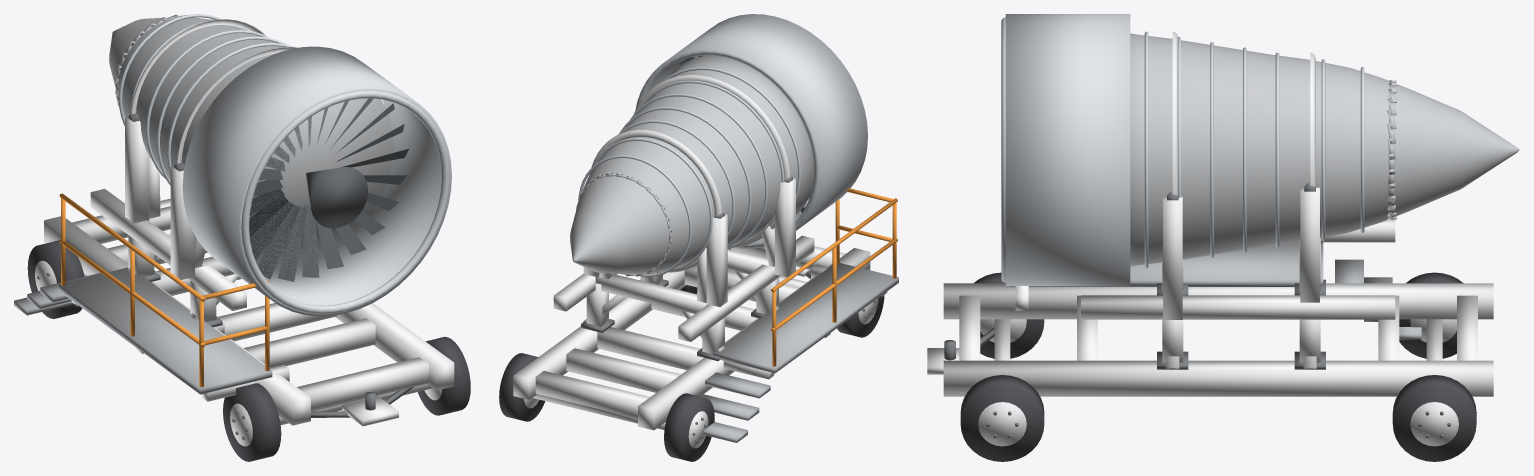
The model's file is AviationEngine.fbx.
3 views of the same model, side by side, from view 1: azimuth 30°, elevation 25°; view 2: azimuth 150°, elevation 25°; view 3: azimuth 270°, elevation 25° (orthographic). The views are drawn at different scales.
Visible parts, largest first — view 1: Engine_Nacelle_Cowl, Engine_Core_SolidHull, Catwalk_Deck_Plate, Engine_Intake_Lip, Chassis_Longitudinal_-0.7, Chassis_Crossmember_-1.8, Subframe_Longitudinal_-0.7, Chassis_Crossmember_-0.9, Chassis_Longitudinal_0.7, Engine_Spinner, Tire_Front_L, Cradle_Rear_Upright_L (+27 smaller); view 2: Engine_Core_SolidHull, Engine_Nacelle_Cowl, Catwalk_Deck_Plate, Chassis_Longitudinal_0.7, Chassis_Longitudinal_-0.7, Chassis_Crossmember_2.0, Subframe_Longitudinal_-0.7, Chassis_Crossmember_1.4, Chassis_Crossmember_0.8, Tire_Rear_L, Subframe_Crossbeam_0.8, Cradle_Front_Upright_L (+29 smaller); view 3: Engine_Core_SolidHull, Engine_Nacelle_Cowl, Chassis_Longitudinal_0.7, Chassis_Longitudinal_-0.7, Subframe_Longitudinal_0.7, Catwalk_Deck_Plate, Tire_Front_R, Tire_Rear_R, Cradle_Front_Upright_R, Cradle_Rear_Upright_R, Rim_Rear_R, Rim_Front_R (+21 smaller).
Boxes of the visible parts, <box> form: Engine_Nacelle_Cowl: <box>182,46,451,316</box>; Engine_Core_SolidHull: <box>109,17,393,269</box>; Catwalk_Deck_Plate: <box>58,267,272,394</box>; Engine_Intake_Lip: <box>241,90,449,313</box>; Chassis_Longitudinal_-0.7: <box>44,216,310,425</box>; Chassis_Crossmember_-1.8: <box>297,357,428,411</box>; Subframe_Longitudinal_-0.7: <box>90,188,246,310</box>; Chassis_Crossmember_-0.9: <box>243,318,375,367</box>; Chassis_Longitudinal_0.7: <box>335,303,454,390</box>; Engine_Spinner: <box>306,167,367,228</box>; Tire_Front_L: <box>223,383,281,461</box>; Cradle_Rear_Upright_L: <box>125,116,149,223</box>; Engine_Core_SolidHull: <box>570,55,813,274</box>; Engine_Nacelle_Cowl: <box>635,14,867,248</box>; Catwalk_Deck_Plate: <box>713,263,898,373</box>; Chassis_Longitudinal_0.7: <box>513,248,730,399</box>; Chassis_Longitudinal_-0.7: <box>638,248,870,430</box>; Chassis_Crossmember_2.0: <box>535,371,649,418</box>; Subframe_Longitudinal_-0.7: <box>678,235,814,341</box>; Chassis_Crossmember_1.4: <box>566,348,680,392</box>; Chassis_Crossmember_0.8: <box>597,327,703,370</box>; Tire_Rear_L: <box>664,393,714,461</box>; Subframe_Crossbeam_0.8: <box>597,274,706,313</box>; Cradle_Front_Upright_L: <box>775,178,795,277</box>; Engine_Core_SolidHull: <box>1130,33,1519,266</box>; Engine_Nacelle_Cowl: <box>1005,14,1130,285</box>; Chassis_Longitudinal_0.7: <box>943,360,1493,396</box>; Chassis_Longitudinal_-0.7: <box>943,283,1493,319</box>; Subframe_Longitudinal_0.7: <box>1081,295,1395,319</box>; Catwalk_Deck_Plate: <box>1009,242,1323,286</box>; Tire_Front_R: <box>960,375,1044,461</box>; Tire_Rear_R: <box>1392,375,1476,461</box>; Cradle_Front_Upright_R: <box>1163,196,1182,319</box>; Cradle_Rear_Upright_R: <box>1300,187,1319,302</box>; Rim_Rear_R: <box>1410,402,1458,446</box>; Rim_Front_R: <box>978,402,1026,446</box>.
Size of the model in its own units: 245 by 319 by 453.
